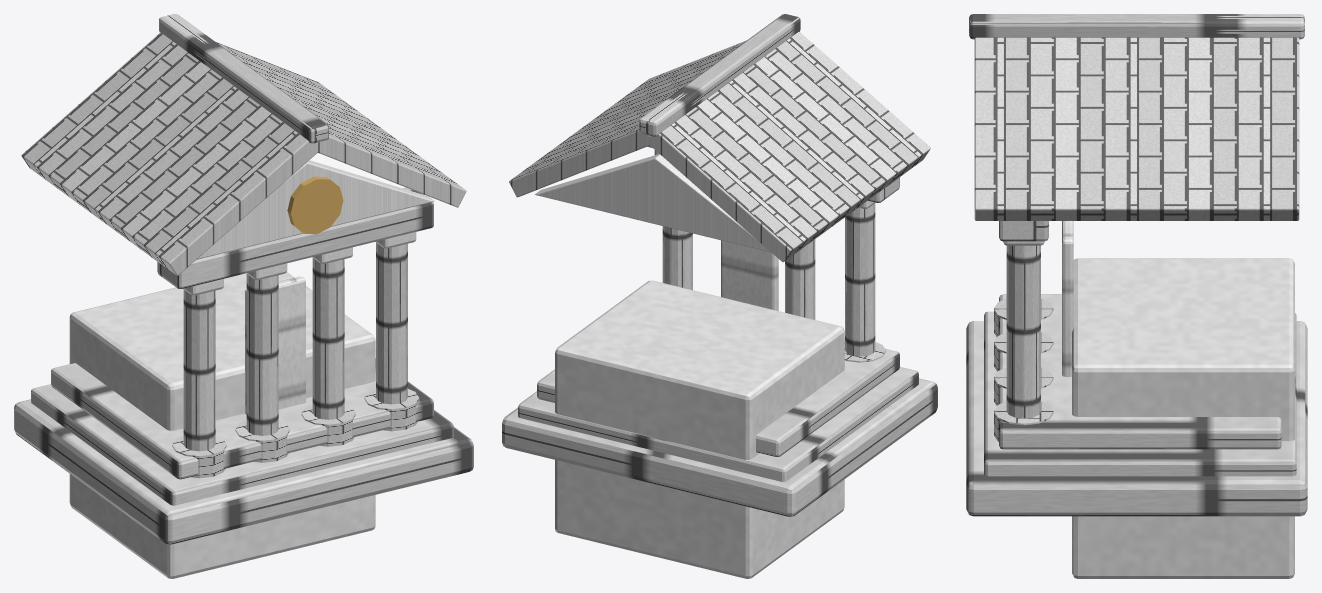
File: forum.glb
3 views of the same model, side by side, from view 1: azimuth 30°, elevation 25°; view 2: azimuth 150°, elevation 25°; view 3: azimuth 270°, elevation 25° (orthographic). The views are drawn at different scales.
Visible parts, largest first — view 1: CivicHall_Geometry; view 2: CivicHall_Geometry; view 3: CivicHall_Geometry.
Boxes of the visible parts, box(x1,y1,x2,y2) form: CivicHall_Geometry: box(14, 14, 473, 578); CivicHall_Geometry: box(502, 14, 937, 578); CivicHall_Geometry: box(966, 14, 1307, 578).
Bounding box in the file's own units: 2.35 × 3.37 × 2.05.
8 materials, 7 textured.
